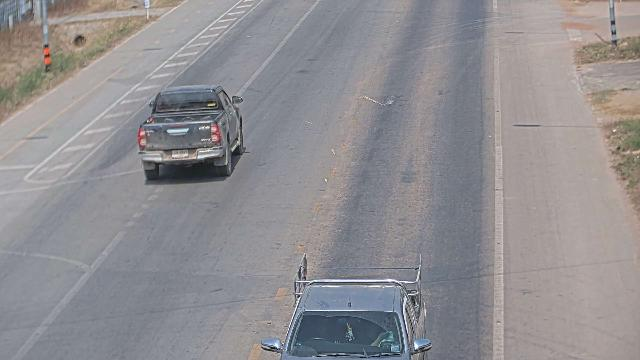pickup-truck: (260, 252, 432, 359), (136, 83, 246, 181)
